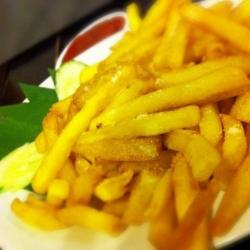fries: (58, 23, 248, 242)
ketchup: (45, 13, 139, 63)
